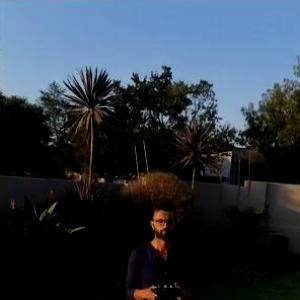follow: (120, 194, 196, 299)
